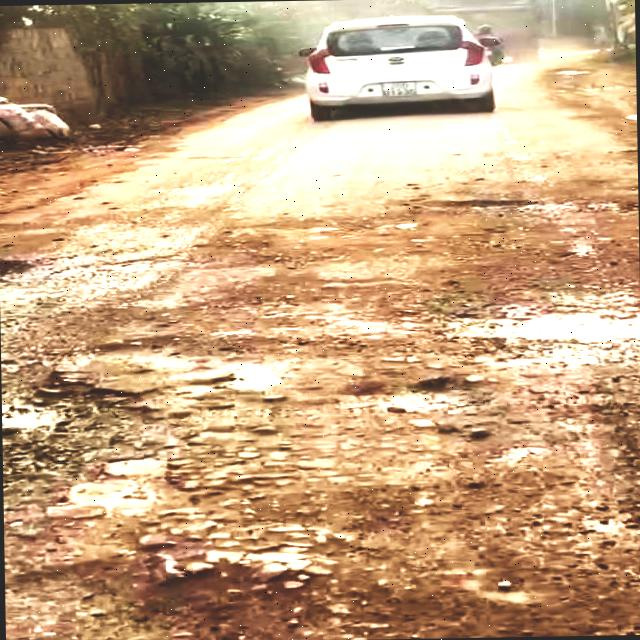pothole: (0, 345, 357, 640), (437, 291, 640, 351), (421, 192, 638, 220)
